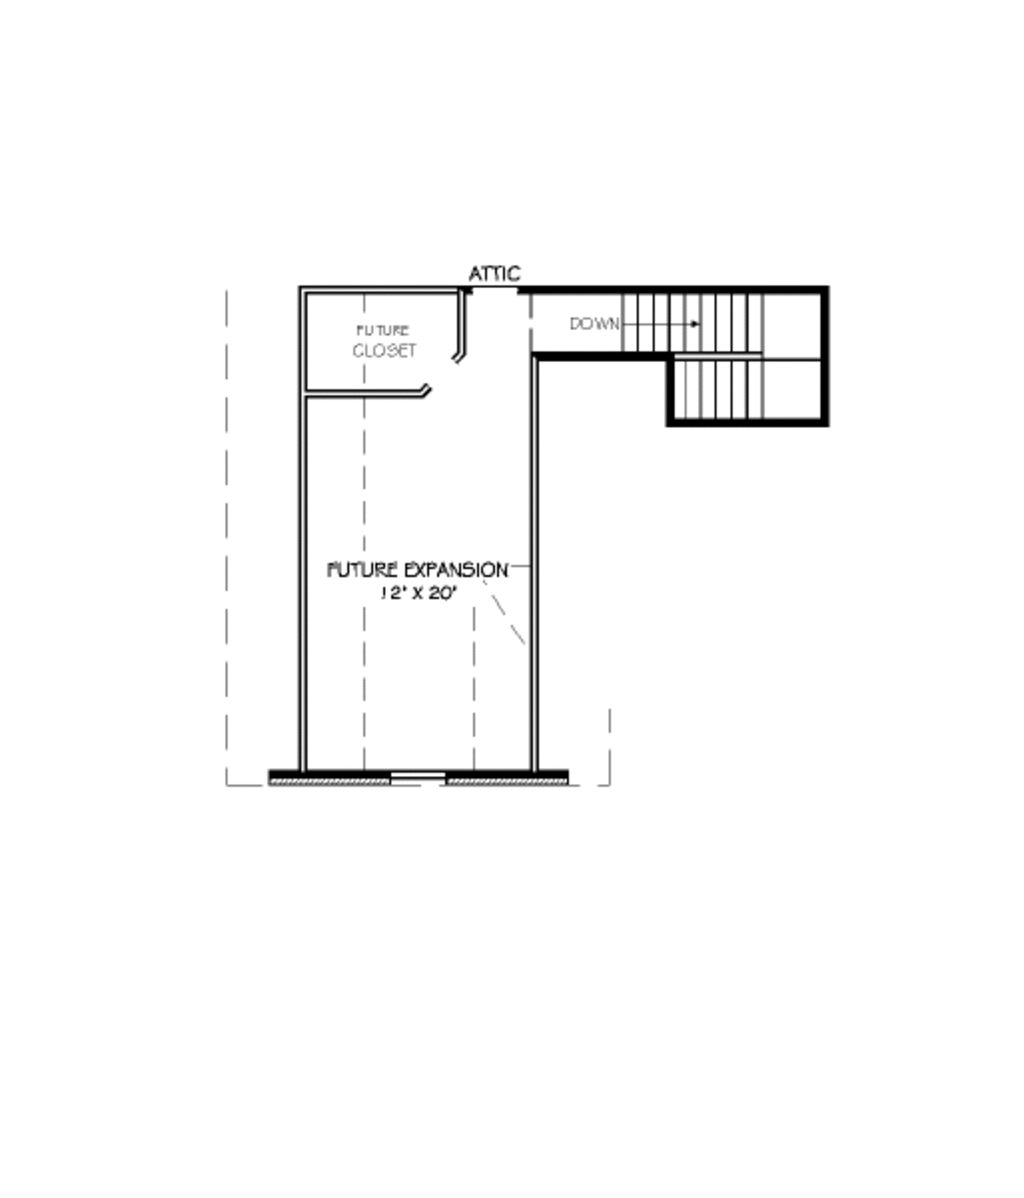stairs: (620, 297, 831, 441)
window: (391, 762, 447, 790)
